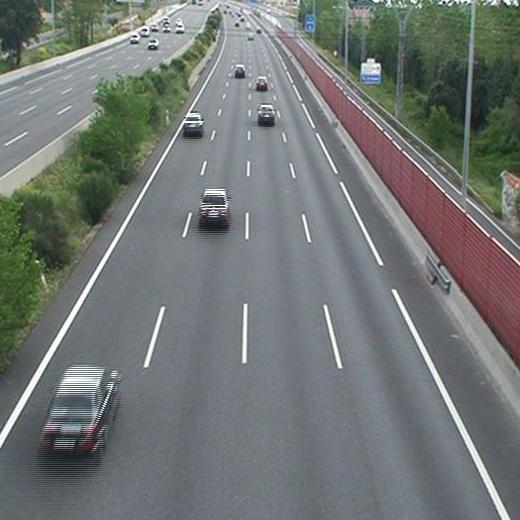car: (41, 369, 118, 450), (200, 190, 228, 221), (183, 114, 203, 132), (258, 105, 276, 122), (256, 77, 267, 88), (235, 65, 245, 77)
